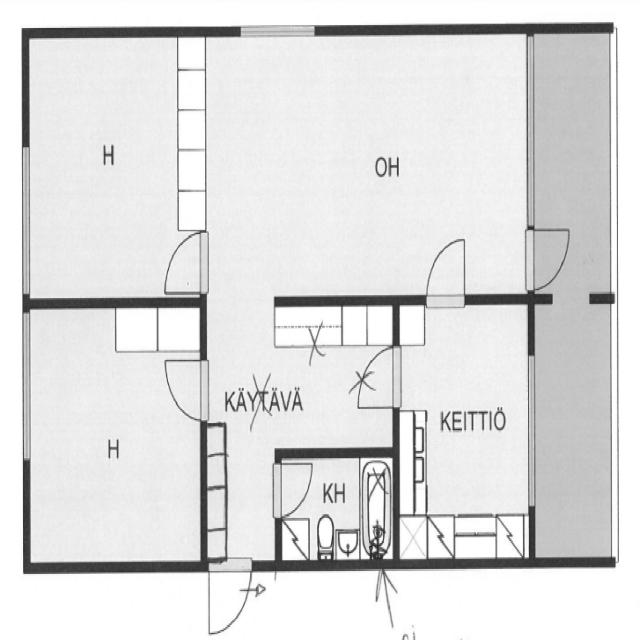door: (518, 217, 572, 292), (204, 562, 255, 640), (156, 230, 214, 296), (354, 342, 403, 417), (422, 229, 468, 308), (162, 352, 210, 422), (262, 459, 320, 516)
window: (16, 140, 38, 292), (17, 304, 36, 470), (524, 343, 538, 520), (525, 33, 537, 234), (229, 19, 319, 43)
zone: (202, 30, 536, 295), (24, 29, 206, 305), (23, 298, 203, 567), (394, 304, 532, 564), (274, 297, 394, 458), (278, 444, 400, 570)
